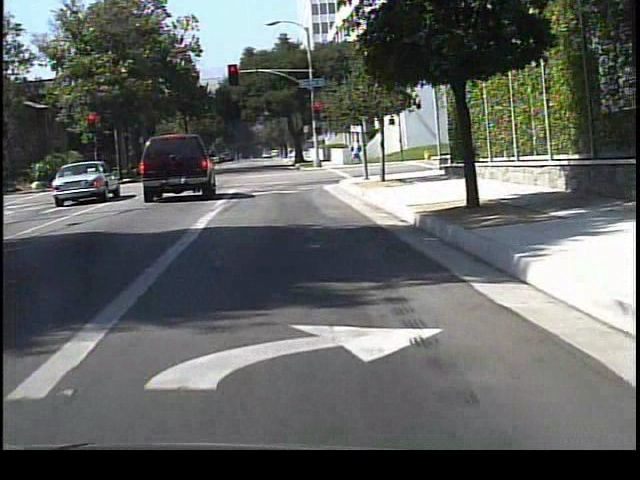person: (346, 139, 363, 170)
